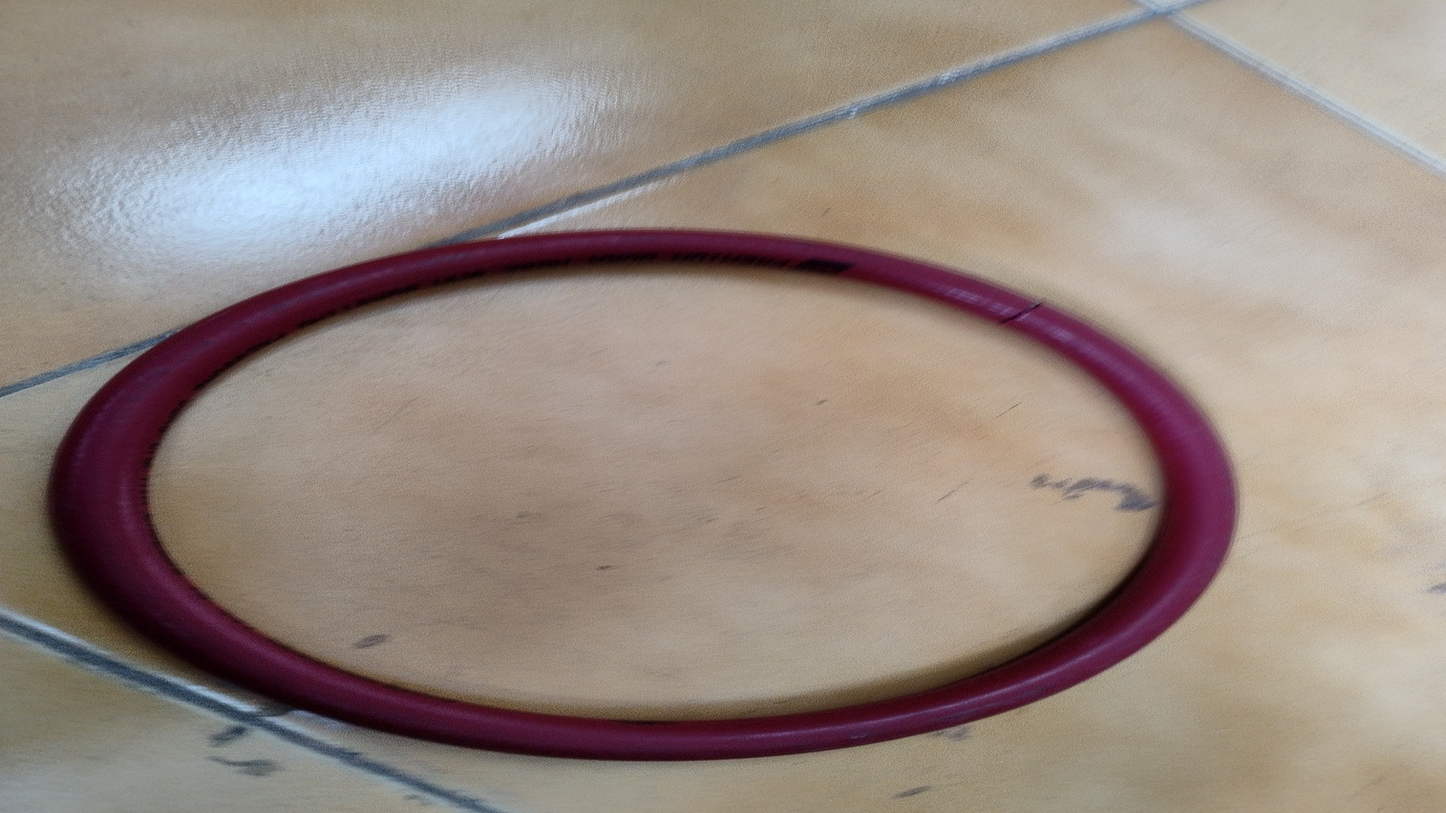Red ring: (67, 227, 1242, 759)
